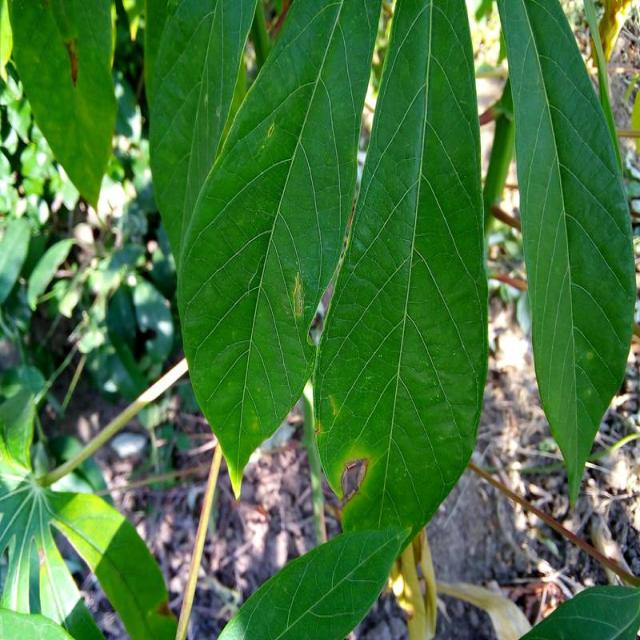cassava leaf: (173, 0, 382, 500), (311, 0, 490, 547), (495, 0, 636, 507), (143, 0, 258, 273), (3, 0, 118, 210)
